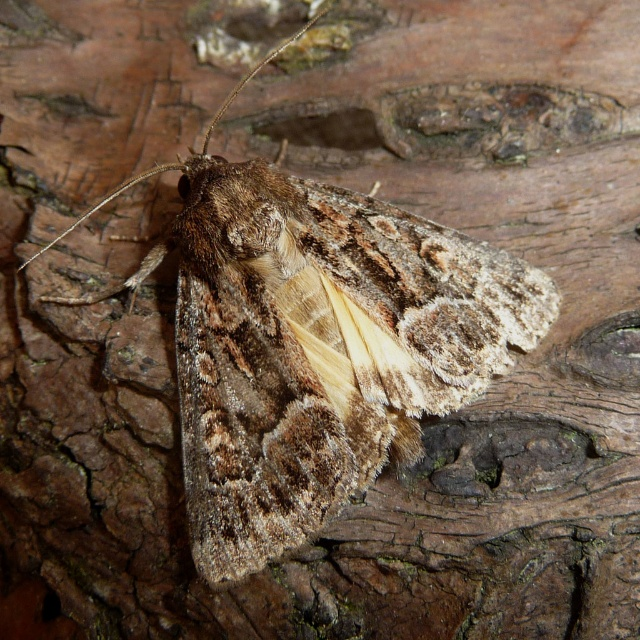Moths and butterflies: (10, 2, 564, 584)
